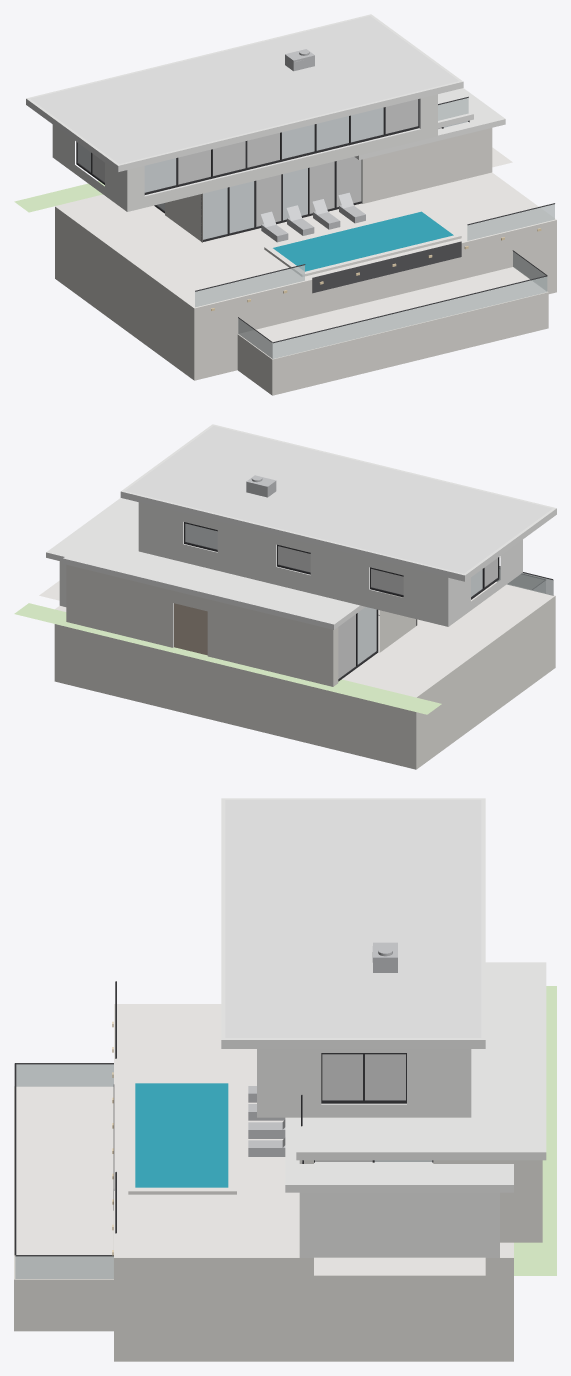
File: mansion_w96a.glb
3 renders of one model, top to bottom at view 1: azimuth 30°, elevation 25°; view 2: azimuth 150°, elevation 25°; view 3: azimuth 270°, elevation 25°, orthographic. The views are drawn at different scales.
Visible parts, largest first — view 1: mansion_w96a_Walls2, mansion_w96a_Site, mansion_w96a_Roof, mansion_w96a_Clear, mansion_w96a_Trim, mansion_w96a_Glass, mansion_w96a_WindowsLit, mansion_w96a_Walls, mansion_w96a_Water, mansion_w96a_Frames, mansion_w96a_Details, mansion_w96a_Accent (+1 smaller); view 2: mansion_w96a_Walls2, mansion_w96a_Roof, mansion_w96a_Trim, mansion_w96a_Walls, mansion_w96a_Site, mansion_w96a_Lawn, mansion_w96a_WindowsLit, mansion_w96a_Glass, mansion_w96a_Doors, mansion_w96a_Frames, mansion_w96a_Clear, mansion_w96a_Details; view 3: mansion_w96a_Roof, mansion_w96a_Site, mansion_w96a_Walls2, mansion_w96a_Trim, mansion_w96a_Walls, mansion_w96a_Water, mansion_w96a_Lawn, mansion_w96a_Clear, mansion_w96a_WindowsLit, mansion_w96a_Details, mansion_w96a_Frames.
Part boxes in pixels (box(x1,y1,x2,y2)): mansion_w96a_Walls2: box(55, 128, 556, 395); mansion_w96a_Site: box(55, 147, 556, 358); mansion_w96a_Roof: box(30, 16, 458, 163); mansion_w96a_Clear: box(195, 98, 554, 358); mansion_w96a_Trim: box(26, 14, 505, 196); mansion_w96a_Glass: box(78, 107, 468, 239); mansion_w96a_WindowsLit: box(92, 99, 441, 226); mansion_w96a_Walls: box(52, 94, 437, 211); mansion_w96a_Water: box(273, 211, 453, 271); mansion_w96a_Frames: box(76, 96, 554, 343); mansion_w96a_Details: box(261, 49, 365, 242); mansion_w96a_Accent: box(312, 241, 461, 293); mansion_w96a_Walls2: box(54, 564, 555, 769); mansion_w96a_Roof: box(125, 426, 552, 573); mansion_w96a_Trim: box(46, 424, 556, 647); mansion_w96a_Walls: box(59, 502, 522, 626); mansion_w96a_Site: box(39, 580, 554, 697); mansion_w96a_Lawn: box(14, 603, 441, 714); mansion_w96a_WindowsLit: box(278, 546, 497, 678); mansion_w96a_Glass: box(185, 523, 482, 664); mansion_w96a_Doors: box(174, 603, 207, 655); mansion_w96a_Frames: box(184, 522, 553, 681); mansion_w96a_Clear: box(496, 567, 553, 595); mansion_w96a_Details: box(246, 475, 276, 497); mansion_w96a_Roof: box(225, 800, 481, 1037); mansion_w96a_Site: box(15, 1004, 513, 1278); mansion_w96a_Walls2: box(14, 1086, 542, 1361); mansion_w96a_Trim: box(221, 798, 546, 1192); mansion_w96a_Walls: box(257, 1049, 499, 1257); mansion_w96a_Water: box(135, 1083, 228, 1187); mansion_w96a_Lawn: box(514, 986, 556, 1275); mansion_w96a_Clear: box(15, 1064, 113, 1278); mansion_w96a_WindowsLit: box(315, 1054, 405, 1161); mansion_w96a_Details: box(248, 942, 397, 1156); mansion_w96a_Frames: box(14, 981, 433, 1256).
Bounding box in the file's own units: 99 × 46.4 × 76.
